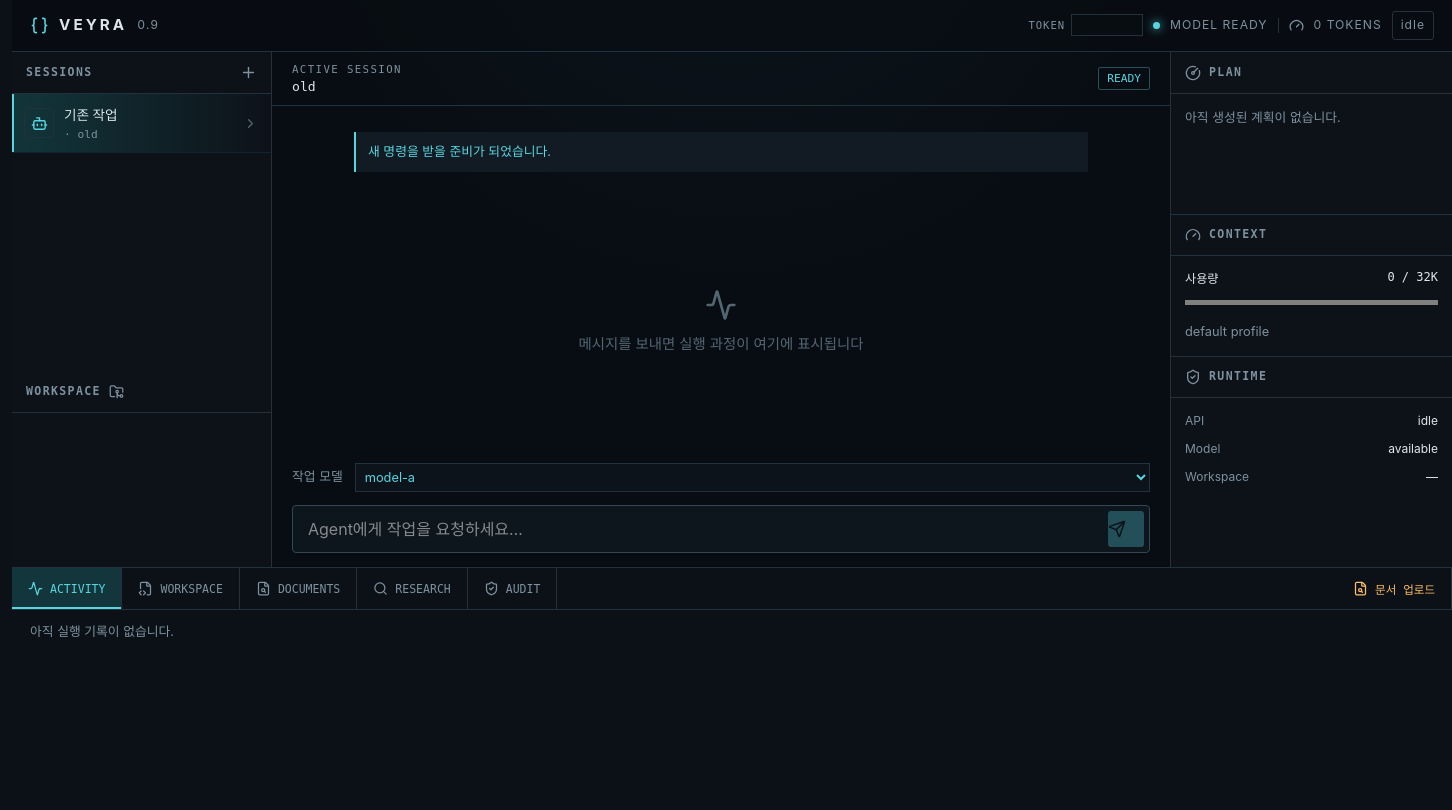
Test: sends the chosen model and shows preparation while the request is pending
Select "model-b" in the dropdown labelled "작업 모델". click: (752, 477)
box: [355,462,1150,492]
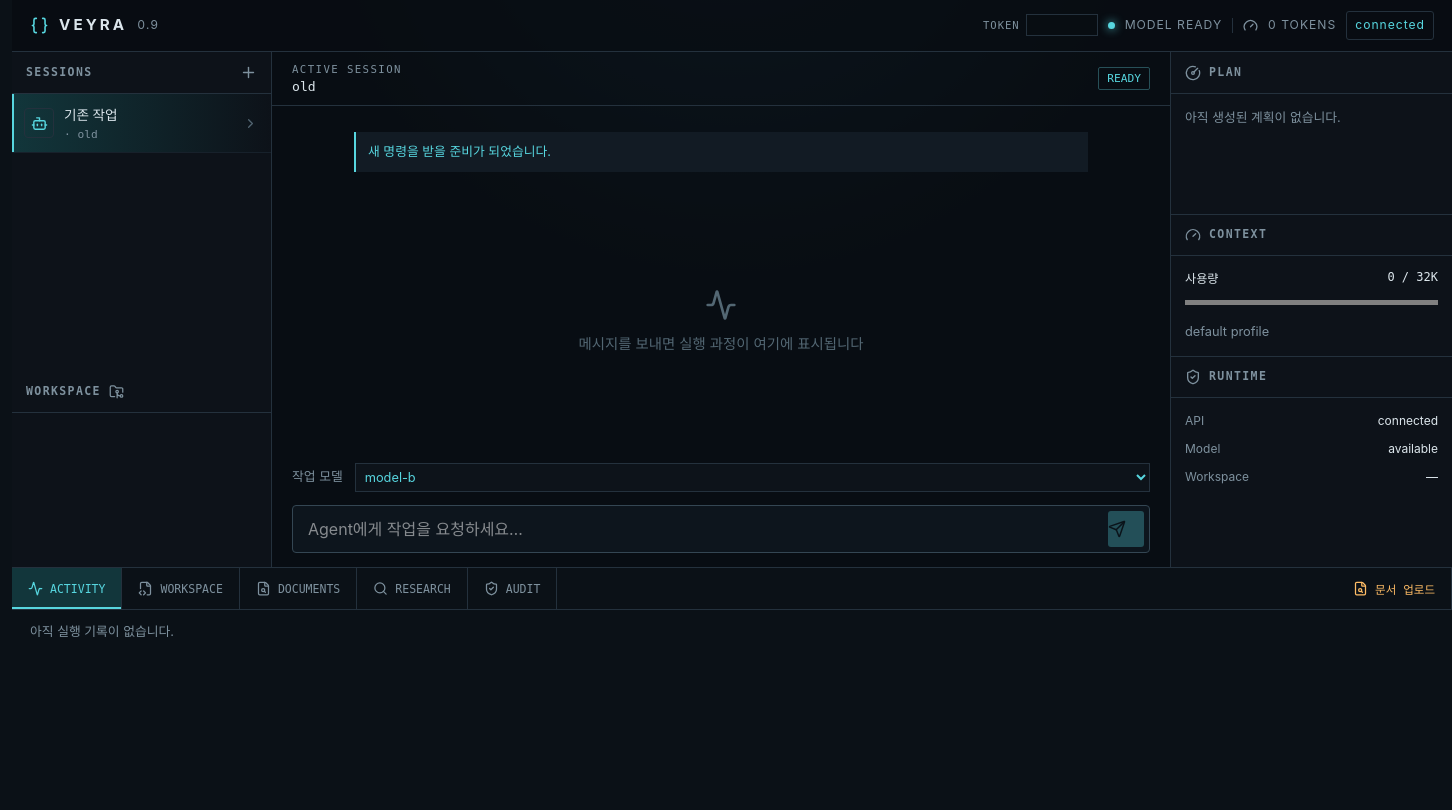
Type "테스트 작업" into the field named "Agent 메시지". click: (698, 529)
box: [293,506,1103,552]
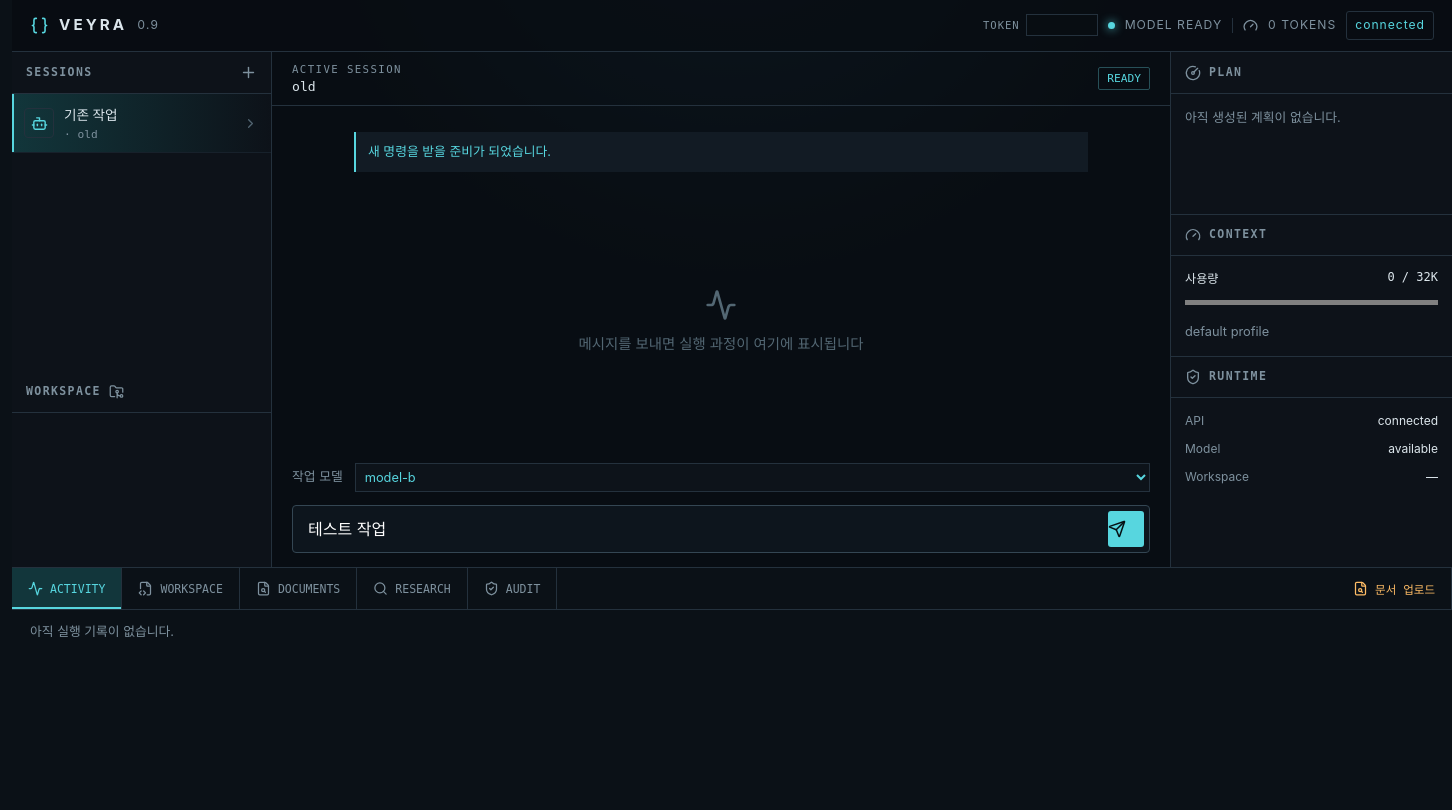
Click the button named "메시지 보내기". click: (1126, 529)
box: [1108,511,1144,547]
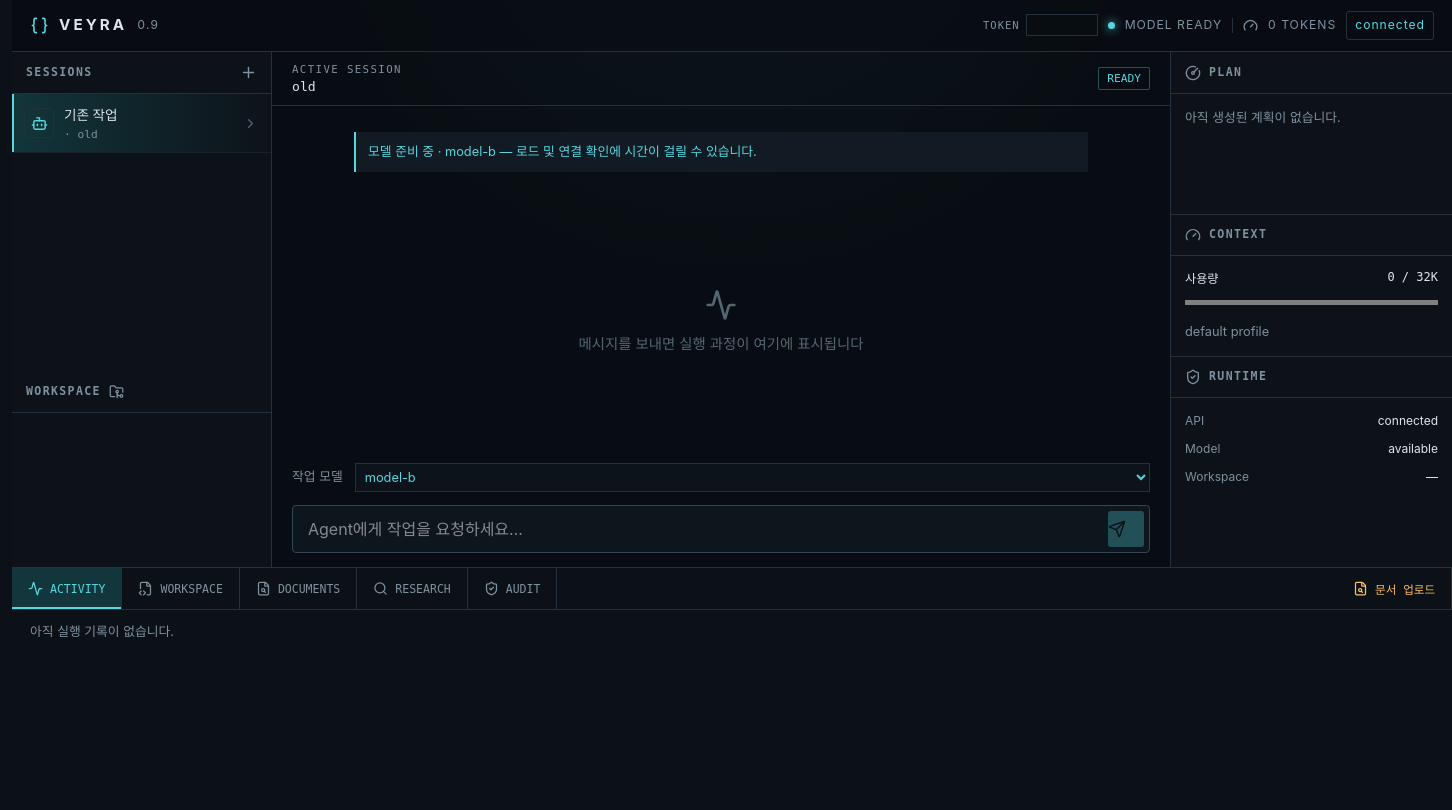
Now the message shows "모델 준비 중 · model-b", box [368,144,757,159]
